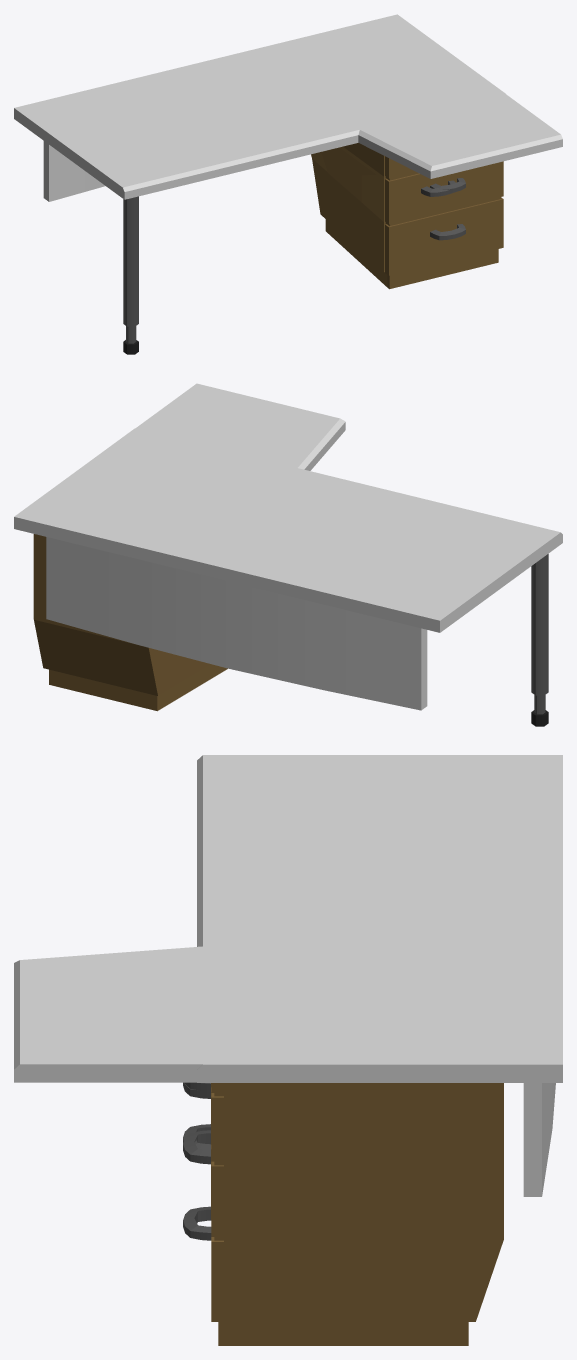
The model's file is Desk_Modular.fbx.
3 views of the same model, one above another, from view 1: azimuth 30°, elevation 25°; view 2: azimuth 150°, elevation 25°; view 3: azimuth 270°, elevation 25° (orthographic). The views are drawn at different scales.
Visible parts, largest first — view 1: Desk_Top_Corner, Desk_Top_Straight, Desk_Drawers_Large, Desk_Drawers_Small, Desk_Chair_Leg, Desk_Backing; view 2: Desk_Top_Corner, Desk_Backing, Desk_Top_Straight, Desk_Drawers_Large, Desk_Chair_Leg; view 3: Desk_Top_Corner, Desk_Drawers_Large, Desk_Top_Straight, Desk_Backing.
Part boxes in pixels (x1=…): Desk_Top_Corner: x1=14, y1=14, x2=562, y2=199; Desk_Top_Straight: x1=86, y1=14, x2=505, y2=199; Desk_Drawers_Large: x1=311, y1=143, x2=503, y2=289; Desk_Drawers_Small: x1=321, y1=147, x2=482, y2=224; Desk_Chair_Leg: x1=123, y1=196, x2=138, y2=354; Desk_Backing: x1=43, y1=141, x2=105, y2=201; Desk_Top_Corner: x1=14, y1=383, x2=562, y2=632; Desk_Backing: x1=46, y1=537, x2=427, y2=710; Desk_Top_Straight: x1=14, y1=428, x2=558, y2=632; Desk_Drawers_Large: x1=33, y1=534, x2=227, y2=711; Desk_Chair_Leg: x1=531, y1=554, x2=548, y2=726; Desk_Top_Corner: x1=14, y1=755, x2=562, y2=1082; Desk_Drawers_Large: x1=183, y1=1082, x2=503, y2=1345; Desk_Top_Straight: x1=197, y1=755, x2=562, y2=1082; Desk_Backing: x1=523, y1=1083, x2=555, y2=1196.
Size of the model in its own units: 200 by 85.47 by 150.
